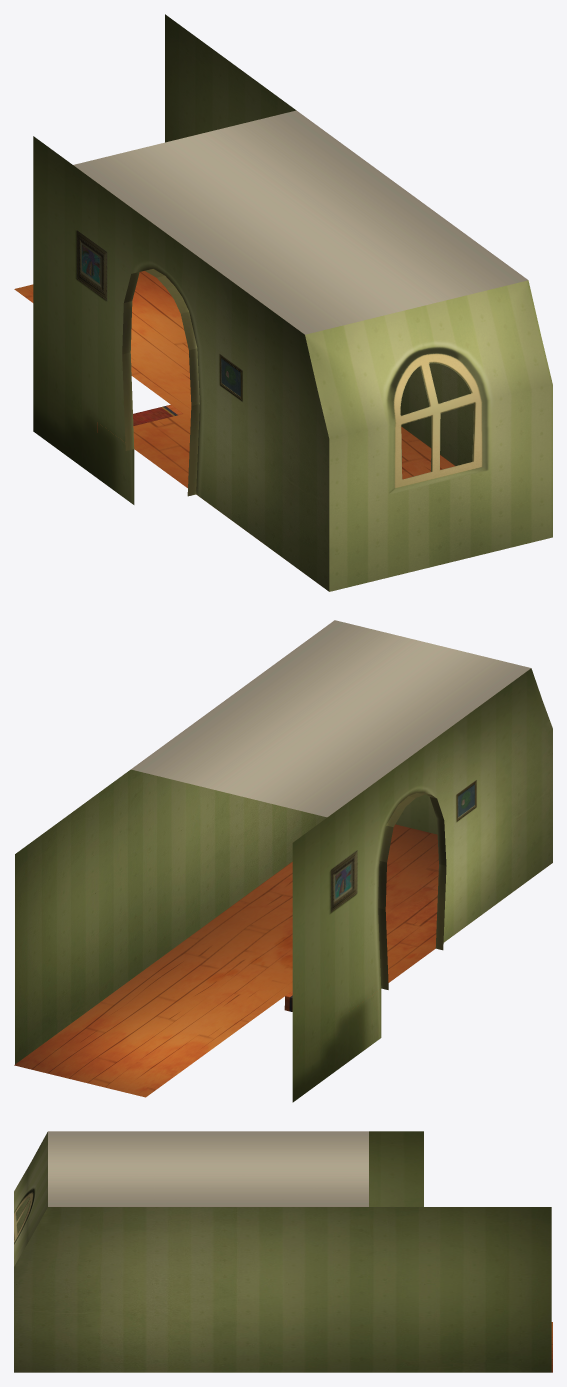
File: stairs_landing.dae
The picture shows the model from 3 angles, top to bottom: view 1: azimuth 30°, elevation 25°; view 2: azimuth 150°, elevation 25°; view 3: azimuth 270°, elevation 25°; orthographic projection. The views are drawn at different scales.
Visible parts, largest first — view 1: Landing_RightWall, Landing_BackWall, ceiling, Landing_LeftWall, Landing_Floor; view 2: Landing_RightWall, Landing_LeftWall, ceiling, Landing_Floor, Landing_BackWall; view 3: Landing_LeftWall, ceiling, Landing_RightWall, Landing_BackWall.
Boxes of the visible parts, box(x1,y1,x2,y2) form: Landing_RightWall: box(33, 136, 329, 591); Landing_BackWall: box(305, 280, 552, 591); ceiling: box(73, 110, 527, 334); Landing_LeftWall: box(165, 14, 473, 465); Landing_Floor: box(14, 271, 455, 487); Landing_RightWall: box(292, 668, 552, 1102); Landing_LeftWall: box(15, 769, 326, 1064); ceiling: box(131, 620, 530, 817); Landing_Floor: box(14, 824, 438, 1097); Landing_BackWall: box(395, 794, 437, 834); Landing_LeftWall: box(14, 1207, 551, 1372); ceiling: box(48, 1131, 368, 1206); Landing_RightWall: box(14, 1131, 423, 1239); Landing_BackWall: box(14, 1132, 47, 1266).
Size of the model in its own units: 14.37 by 17.49 by 41.74.
Materials: 6 (6 with a texture image).
